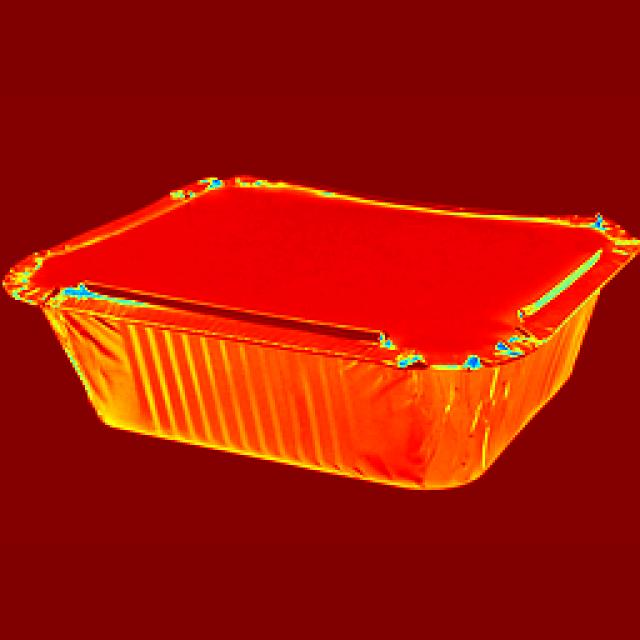Aluminium Food Cans: (24, 154, 618, 528)
